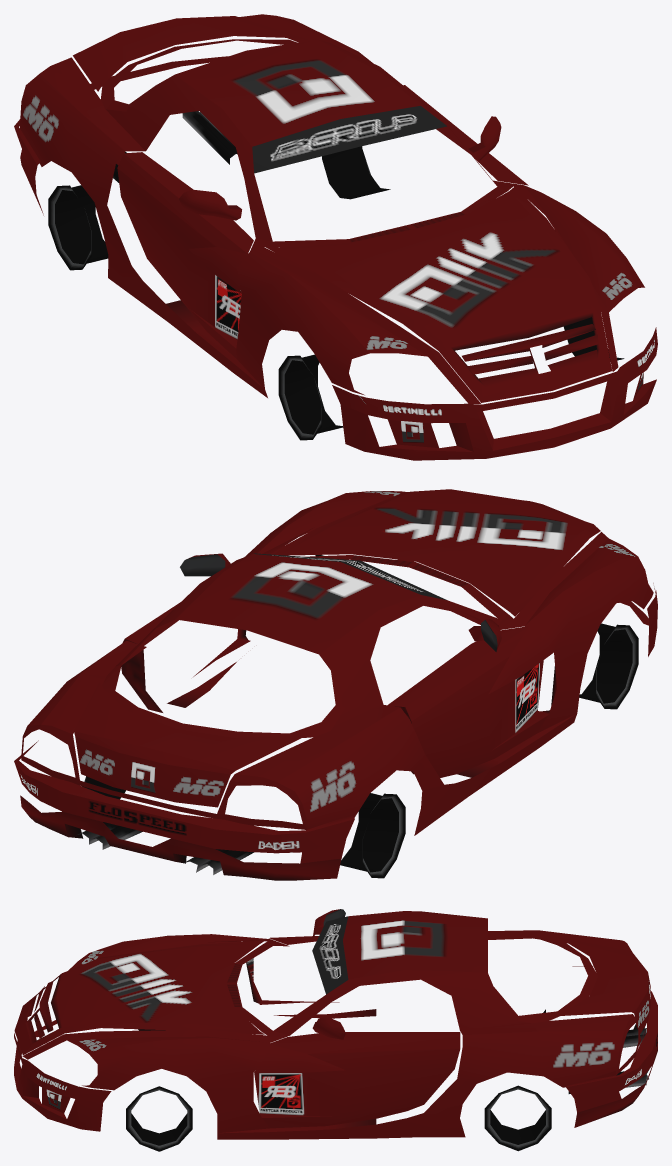
Rendered from car-MSCL_Car4.glb.
3 views of the same model, one above another, from view 1: azimuth 30°, elevation 25°; view 2: azimuth 150°, elevation 25°; view 3: azimuth 270°, elevation 25° (orthographic). The views are drawn at different scales.
Visible parts, largest first — view 1: MSCL_Car4; view 2: MSCL_Car4; view 3: MSCL_Car4.
Boxes of the visible parts, x1,y1,x2,y2 form: MSCL_Car4: (14,14,657,460); MSCL_Car4: (14,489,657,880); MSCL_Car4: (14,909,657,1151).
Bounding box in the file's own units: 1.9 × 1.15 × 4.23.
Materials: 19 (19 with a texture image).
